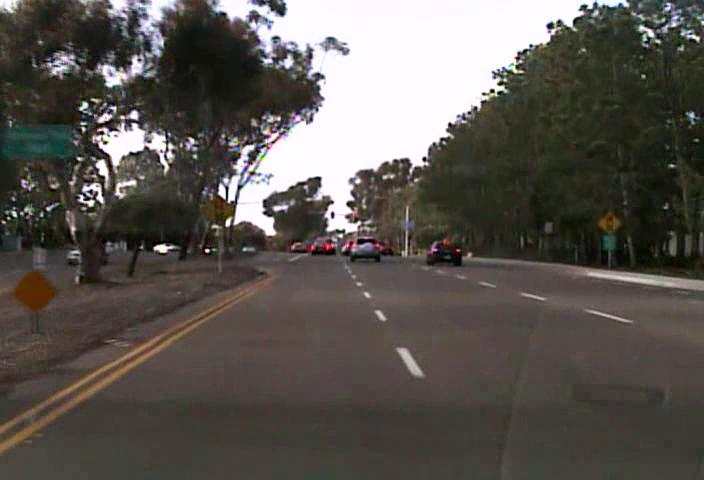signalAhead: (597, 210, 622, 236)
